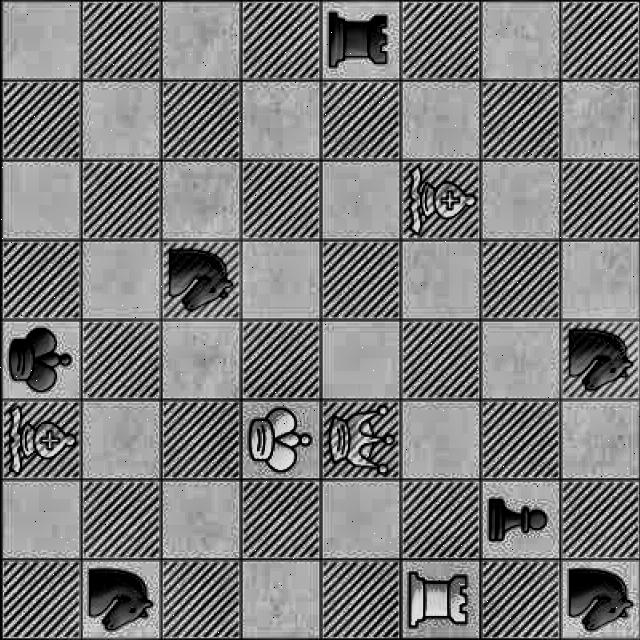Black Knight: (164, 245, 240, 318), (560, 327, 640, 393), (563, 564, 633, 638), (82, 566, 154, 636)
black king: (0, 325, 80, 396)
black pawn: (484, 488, 554, 550)
black rook: (322, 4, 396, 70)
white bishop: (402, 162, 480, 239), (0, 404, 79, 476)
white king: (244, 403, 316, 475)
white queen: (325, 403, 400, 478)
white rook: (399, 564, 480, 634)
